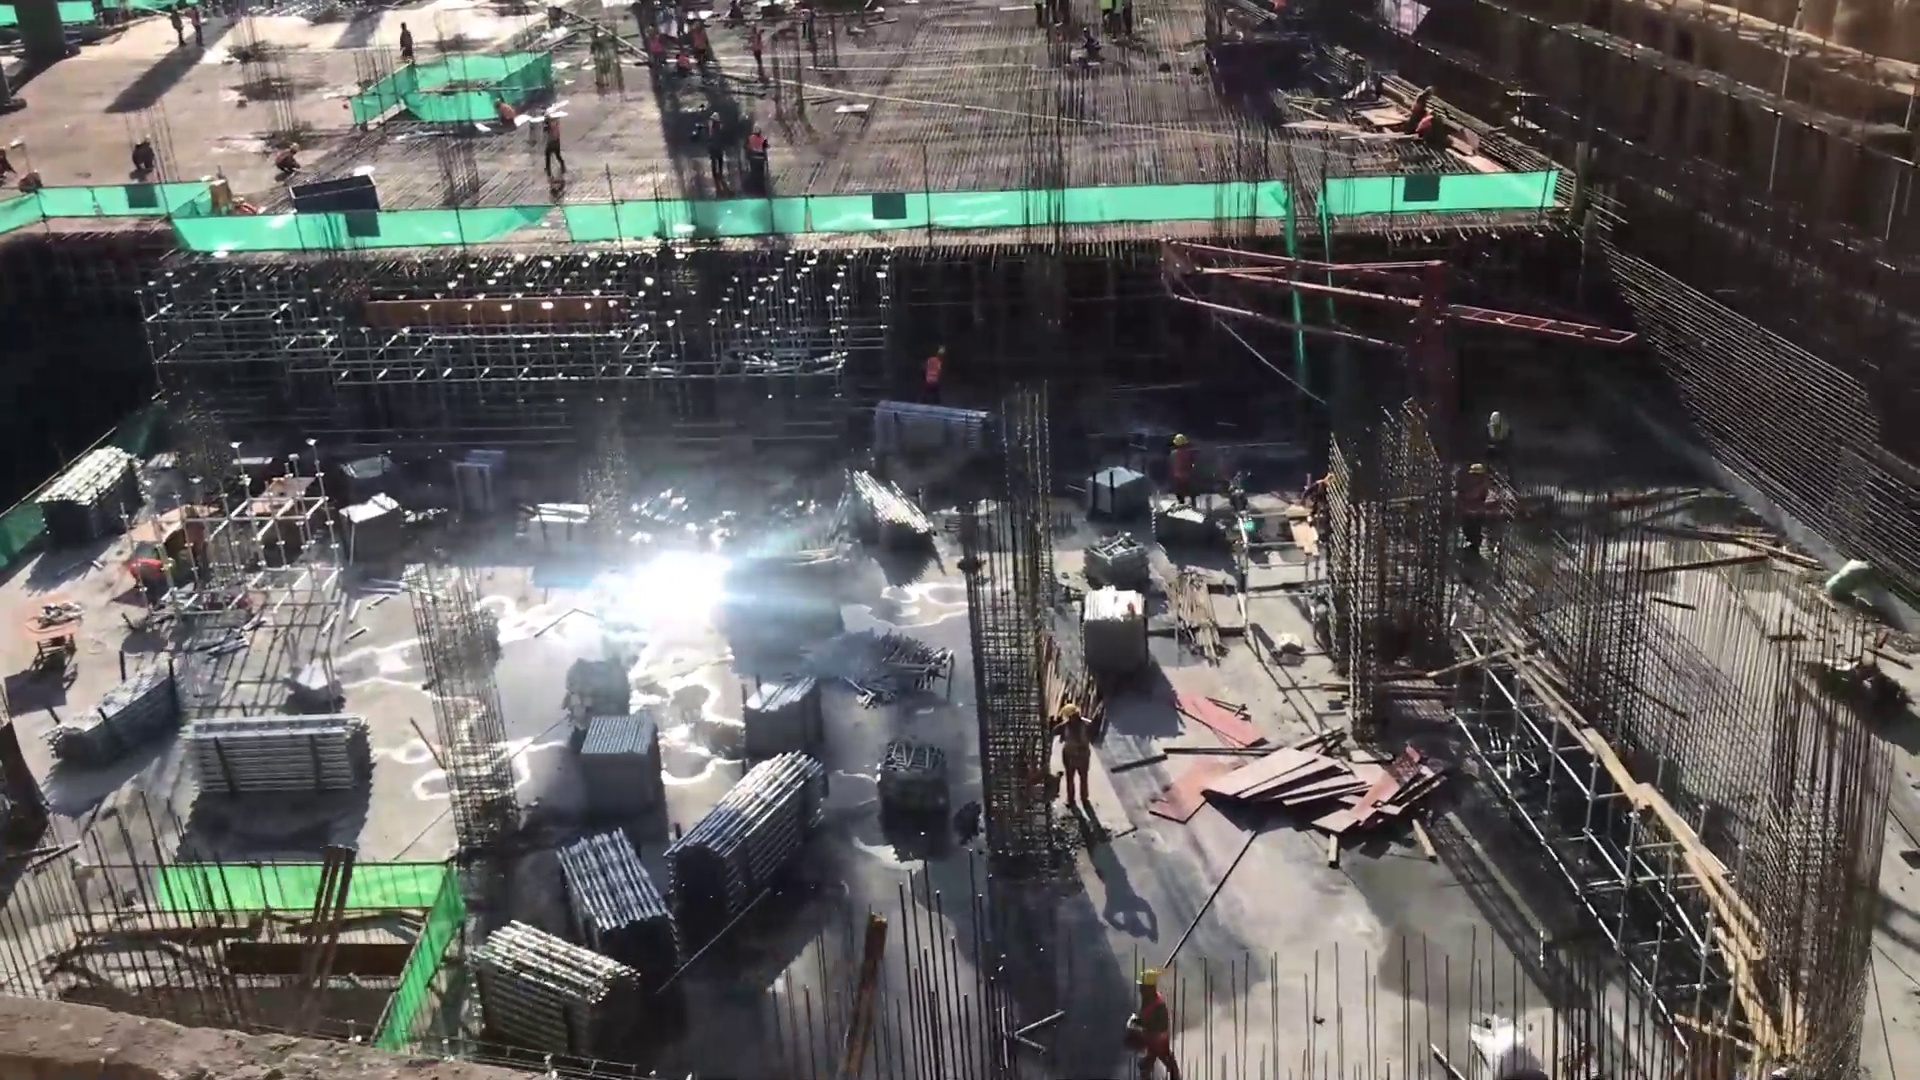helmet: (1136, 968, 1159, 985), (1061, 706, 1082, 717), (1488, 411, 1503, 423), (1172, 434, 1188, 445), (287, 143, 300, 153), (708, 112, 721, 120)
person: (1043, 701, 1112, 820), (1125, 964, 1186, 1077), (1163, 429, 1205, 514), (1471, 407, 1515, 484), (702, 109, 731, 196), (537, 112, 568, 178), (920, 346, 952, 404), (744, 126, 772, 185), (178, 5, 213, 48), (643, 26, 670, 78), (270, 143, 310, 175), (745, 25, 768, 82), (1411, 83, 1434, 136), (394, 19, 417, 71), (687, 23, 715, 64), (492, 95, 519, 134), (1074, 25, 1101, 63), (163, 7, 186, 45), (1419, 109, 1440, 140), (672, 49, 692, 76)
